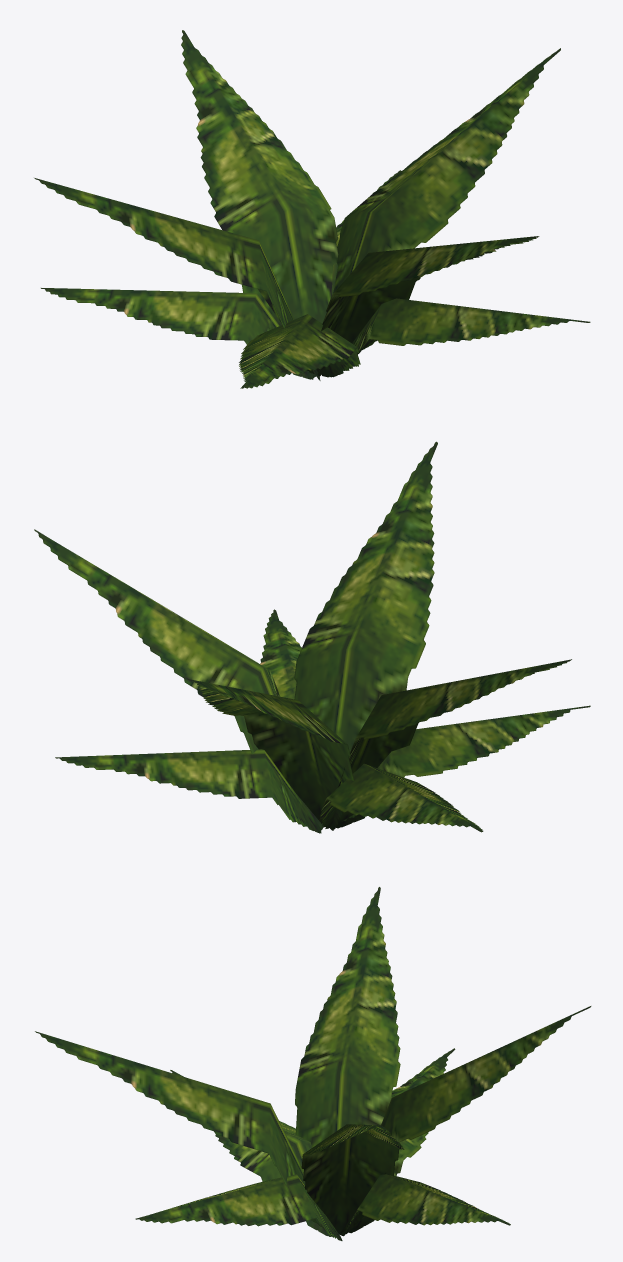
The model's file is naflbu19.dae.
3 renders of one model, top to bottom at view 1: azimuth 30°, elevation 25°; view 2: azimuth 150°, elevation 25°; view 3: azimuth 270°, elevation 25°, orthographic. The views are drawn at different scales.
Parts seen in each view (by area): view 1: crown3; view 2: crown3; view 3: crown3.
Part boxes in pixels (bbox=[...]): crown3: bbox=[34, 30, 590, 388]; crown3: bbox=[34, 441, 590, 833]; crown3: bbox=[35, 887, 591, 1240].
Size of the model in its own units: 1.07 by 1.06 by 0.4867.
1 material, 1 textured.
